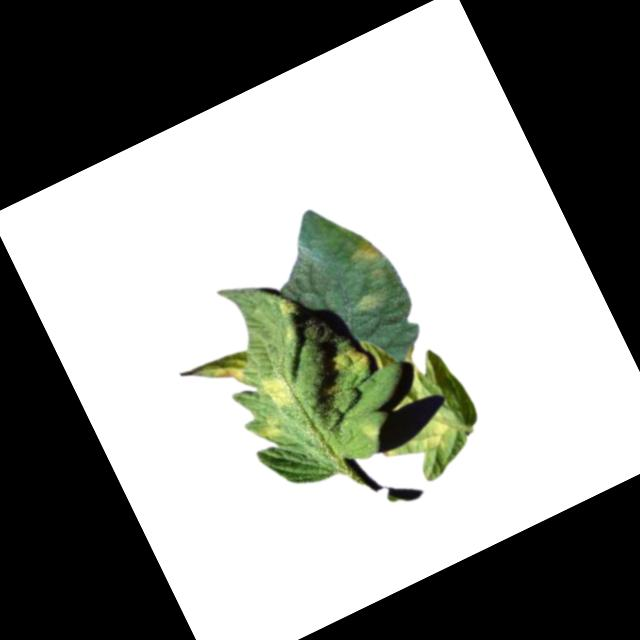Leaf_Mold: (183, 343, 256, 403), (412, 408, 463, 457), (329, 339, 376, 382), (258, 366, 299, 413), (346, 234, 388, 273), (349, 284, 392, 320), (249, 414, 293, 449)
